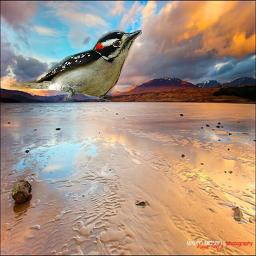Woodpecker: (10, 27, 142, 102)
